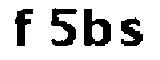5: (46, 5, 81, 51)
b: (83, 7, 113, 50)
f: (11, 5, 36, 47)
s: (118, 18, 144, 50)
